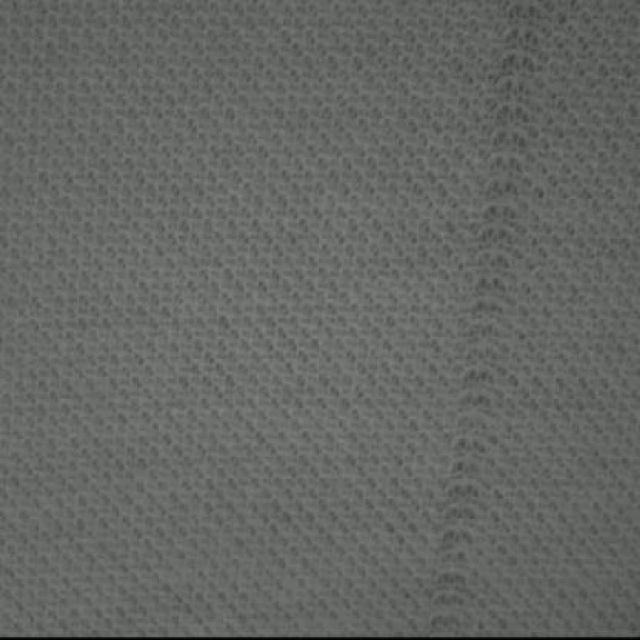Line: (426, 0, 544, 634)
